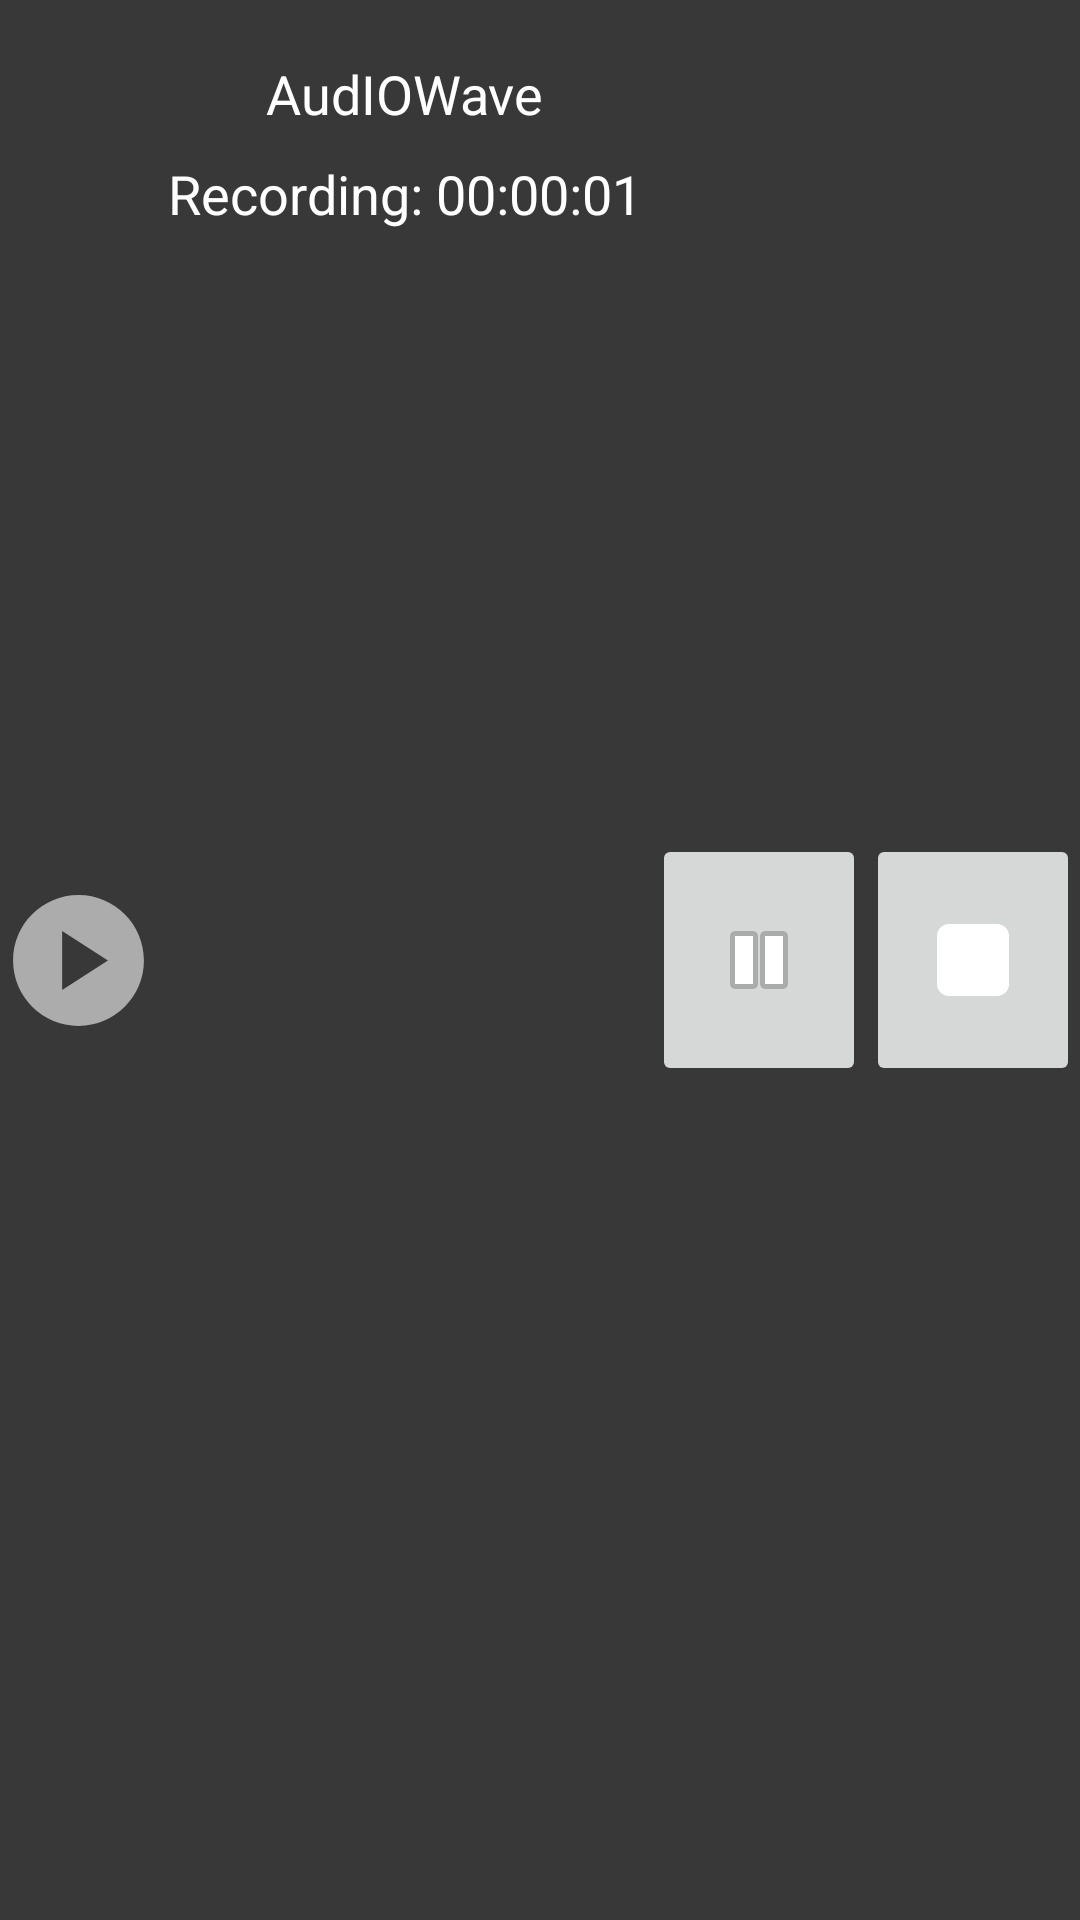

Point at icon controls on the screen. Image size 1080 x 1920, points as (x=x, y=y).
Pause: (x=759, y=960)
play circle: (x=78, y=960)
Stop: (x=973, y=960)
